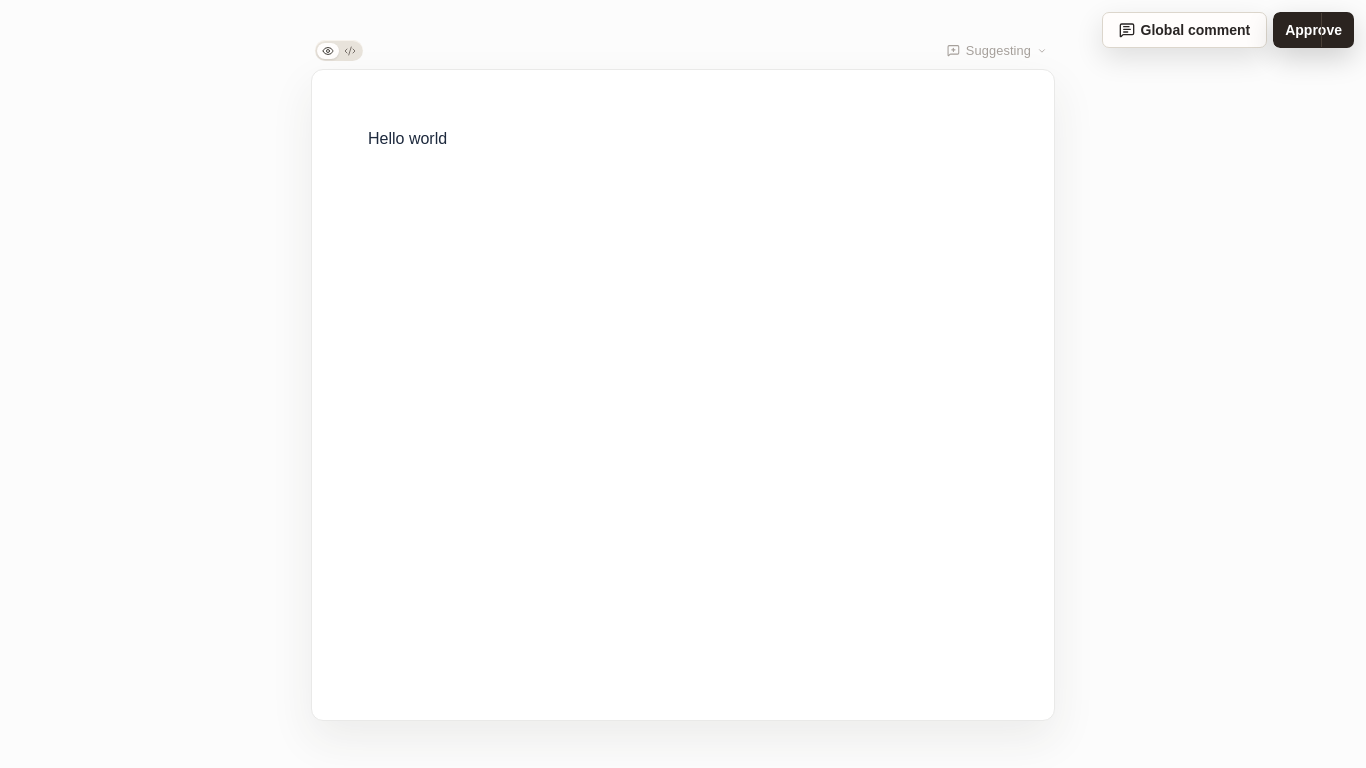
Test: review handoff watcher affordance › retries a failed Done with the same handoff id
This screenshot has width=1366, height=768.
Click the button "Approve" at (1314, 30), box 1273,12 -> 1354,48
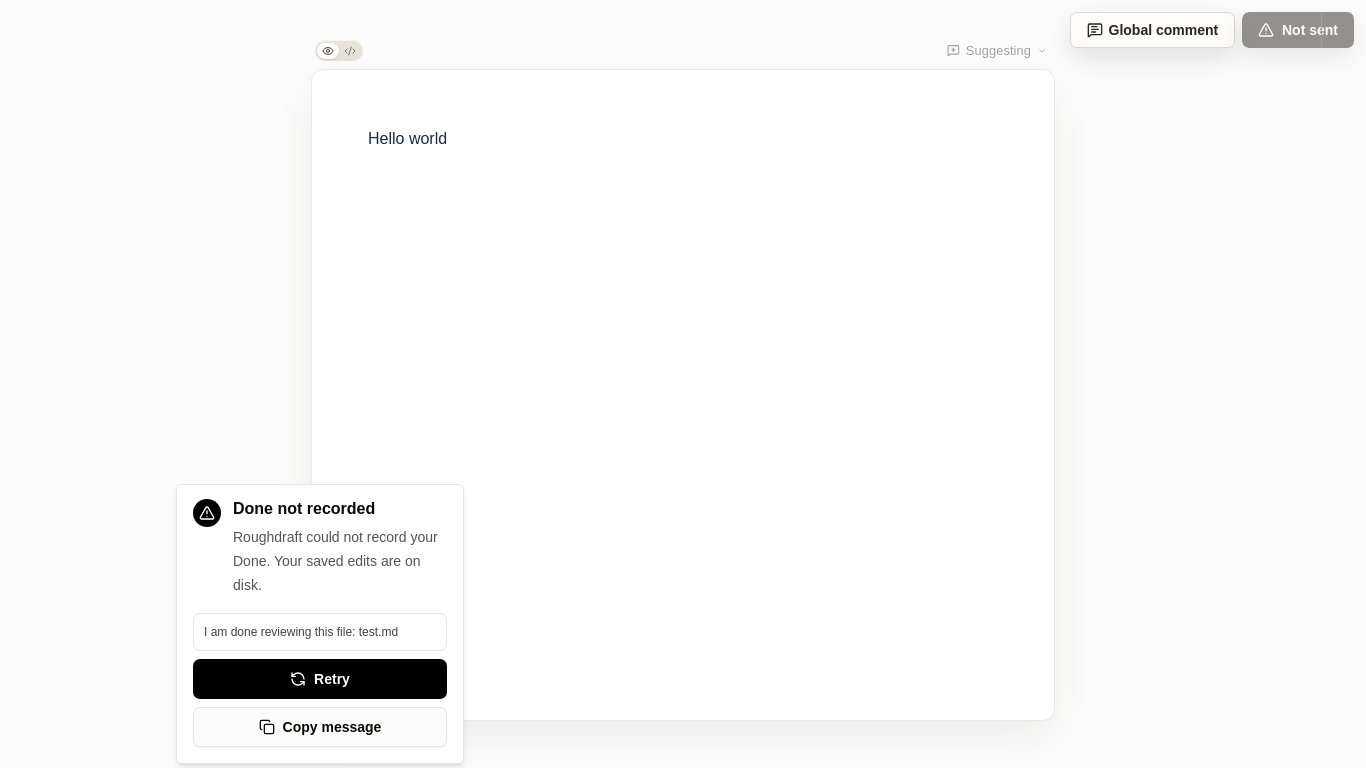
Expected: the button "Not sent" is shown, 1242,12 -> 1354,48
Expected: the text "Roughdraft could not record your Done. Your saved edits are on disk." is shown, 233,525 -> 447,597
Click the button "Retry" at (320, 679), box 193,659 -> 447,699
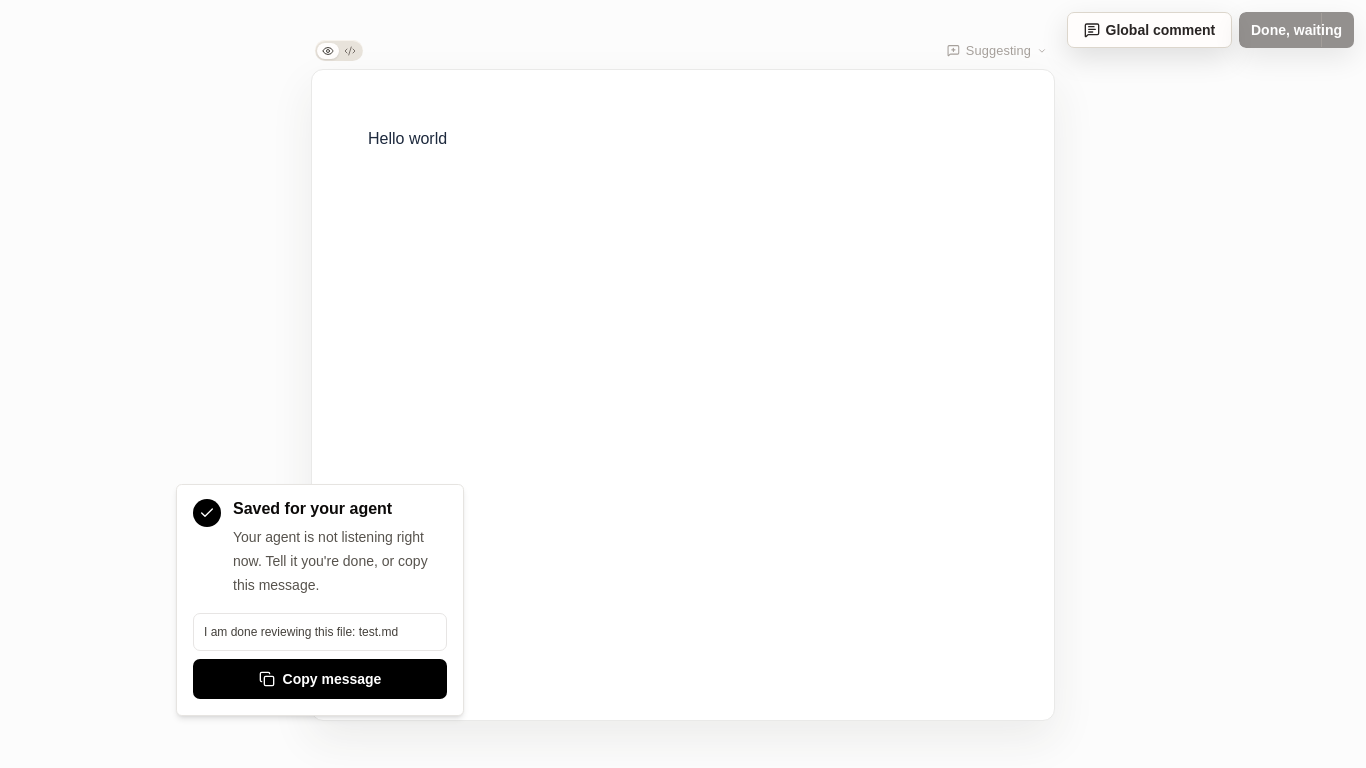
Expected: the button "Done, waiting" is shown, 1239,12 -> 1354,48
